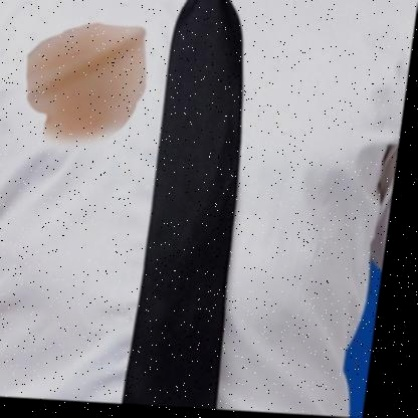coffee: (26, 24, 147, 142)
